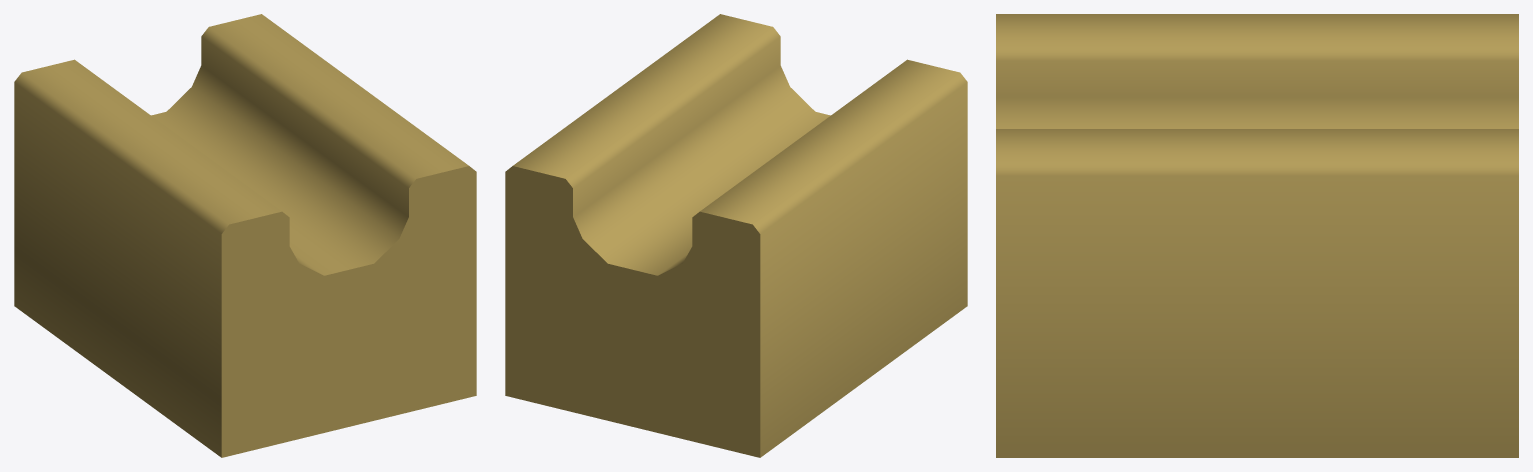
File: hammadde.fbx
3 views of the same model, side by side, from view 1: azimuth 30°, elevation 25°; view 2: azimuth 150°, elevation 25°; view 3: azimuth 270°, elevation 25° (orthographic). The views are drawn at different scales.
Visible parts, largest first — view 1: hammadde; view 2: hammadde; view 3: hammadde.
Part boxes in pixels (box(x1,y1,x2,y2)): hammadde: box(14, 14, 476, 457); hammadde: box(505, 14, 967, 457); hammadde: box(996, 14, 1518, 457).
Size of the model in its own units: 36.14 by 31.37 by 50.95.
